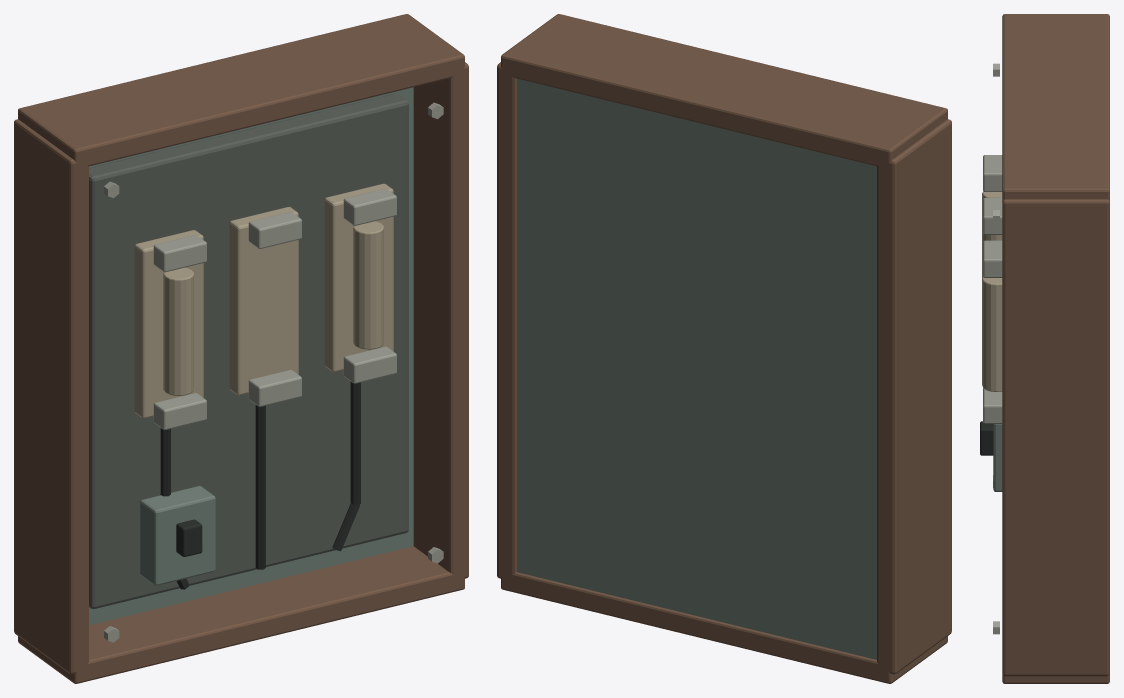
Rendered from fuse_panel.glb.
3 renders of one model, left to right at view 1: azimuth 30°, elevation 25°; view 2: azimuth 150°, elevation 25°; view 3: azimuth 270°, elevation 25°, orthographic. The views are drawn at different scales.
Parts seen in each view (by area): view 1: fuse_panel; view 2: fuse_panel; view 3: fuse_panel.
Boxes of the visible parts, box(x1,y1,x2,y2) form: fuse_panel: box(14, 14, 468, 683); fuse_panel: box(497, 14, 951, 683); fuse_panel: box(980, 14, 1109, 683).
Size of the model in its own units: 0.715 by 0.915 by 0.2175.
